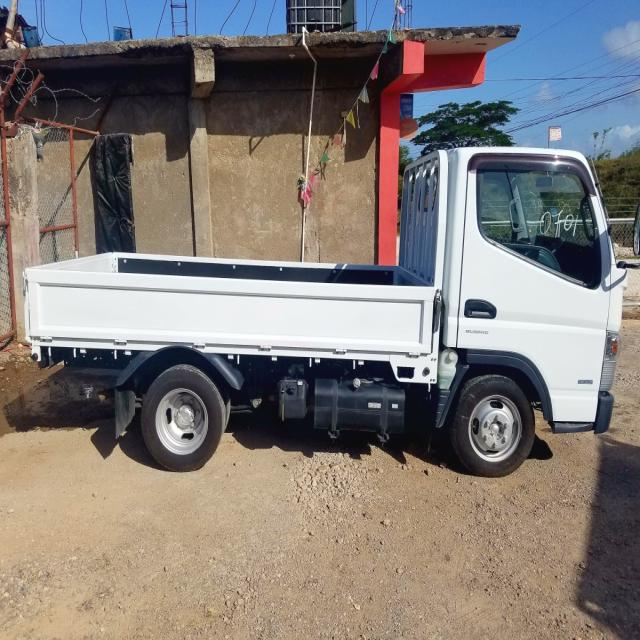truck: (25, 145, 626, 472)
